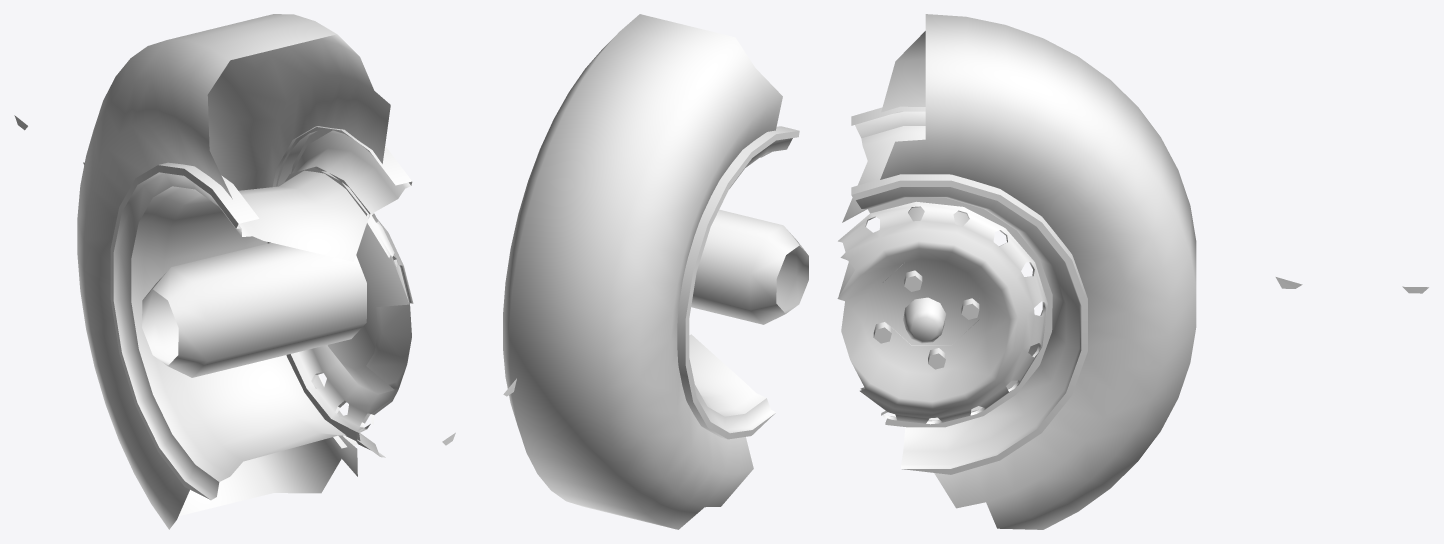
3 views of the same model, side by side, from view 1: azimuth 30°, elevation 25°; view 2: azimuth 150°, elevation 25°; view 3: azimuth 270°, elevation 25° (orthographic). The views are drawn at different scales.
Size of the model in its own units: 0.2588 by 0.5914 by 0.6787.
Materials: 1 (1 with a texture image).
